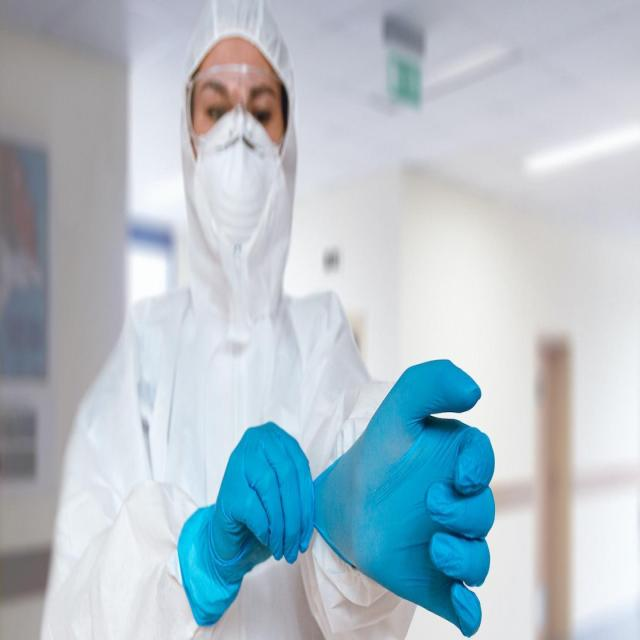Coverall: (44, 3, 414, 635)
Gloves: (329, 354, 494, 636), (177, 422, 317, 629)
Goggles: (184, 61, 289, 146)
Mask: (194, 110, 279, 253)
